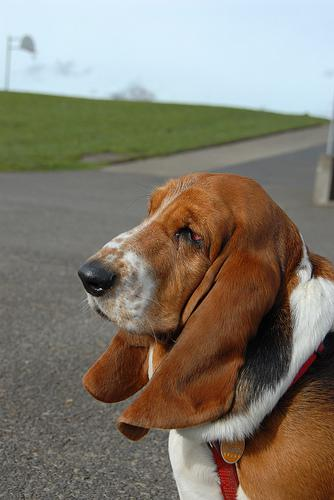dog-basset_hound: (77, 172, 291, 439)
